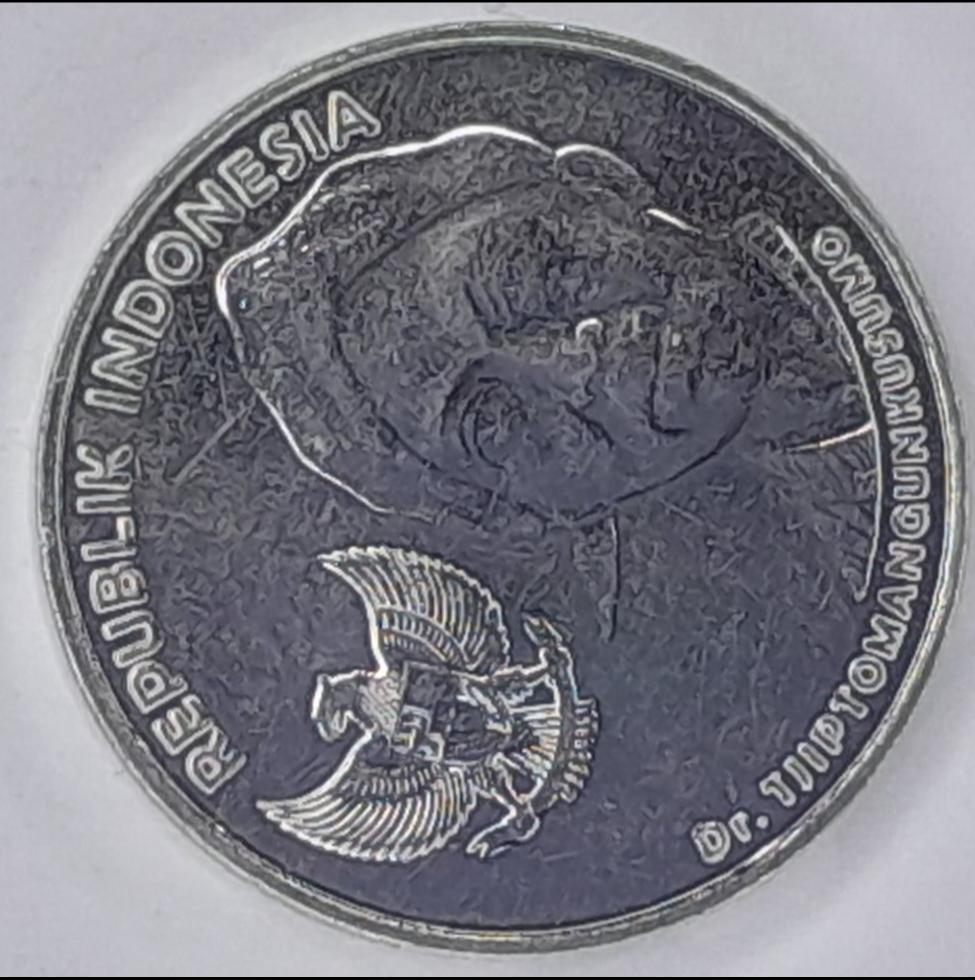coin_200_e2016: (0, 17, 975, 980)
